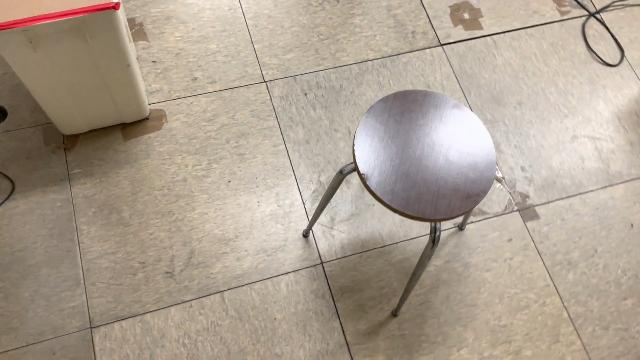Stool: (296, 84, 500, 325)
